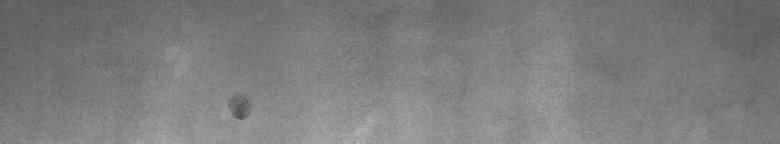fi: (228, 103, 248, 124)
